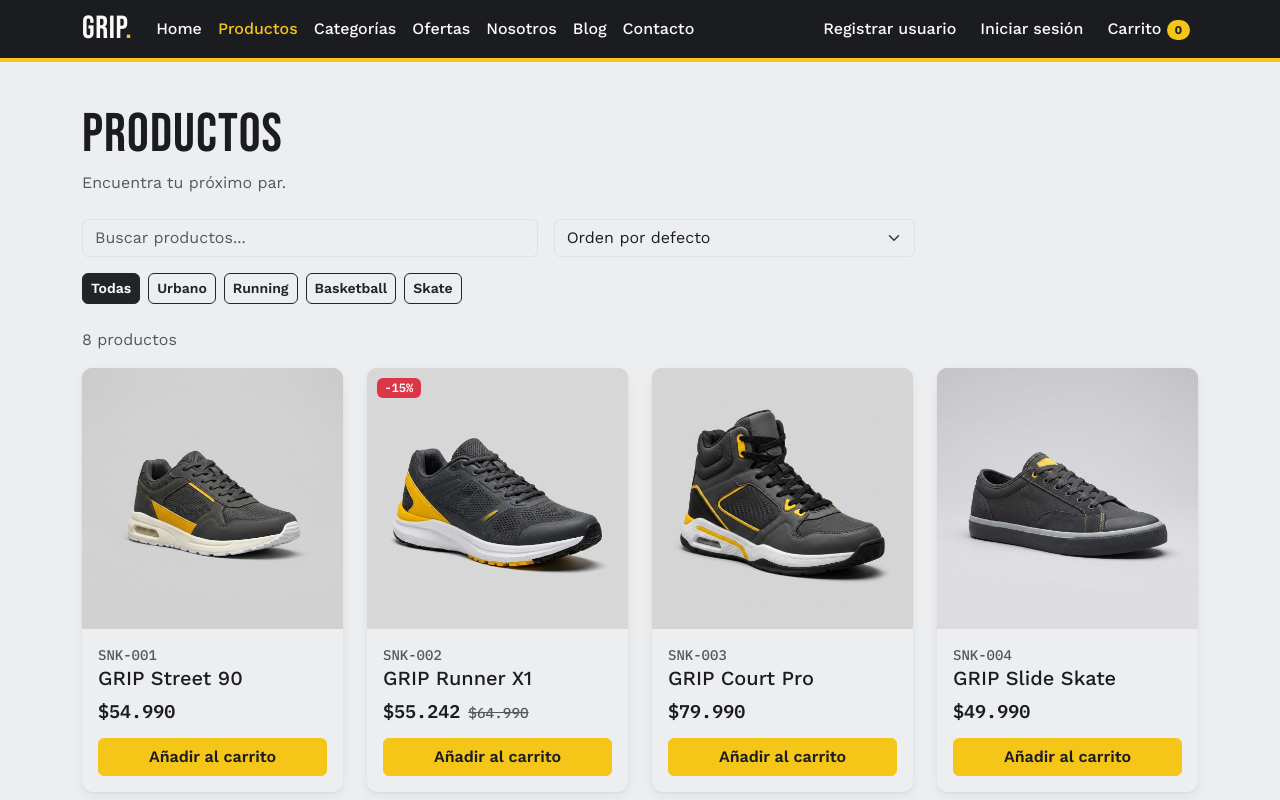
Test: App (integración) › actualiza el contador del encabezado y avisa al añadir un producto
Expected: the text with test id "contador-carrito" reads "0", x1=1174 y1=23 x2=1182 y2=37
Click the button "Añadir al carrito" below "$54.990".
click(212, 757)  # box x1=98 y1=738 x2=327 y2=776
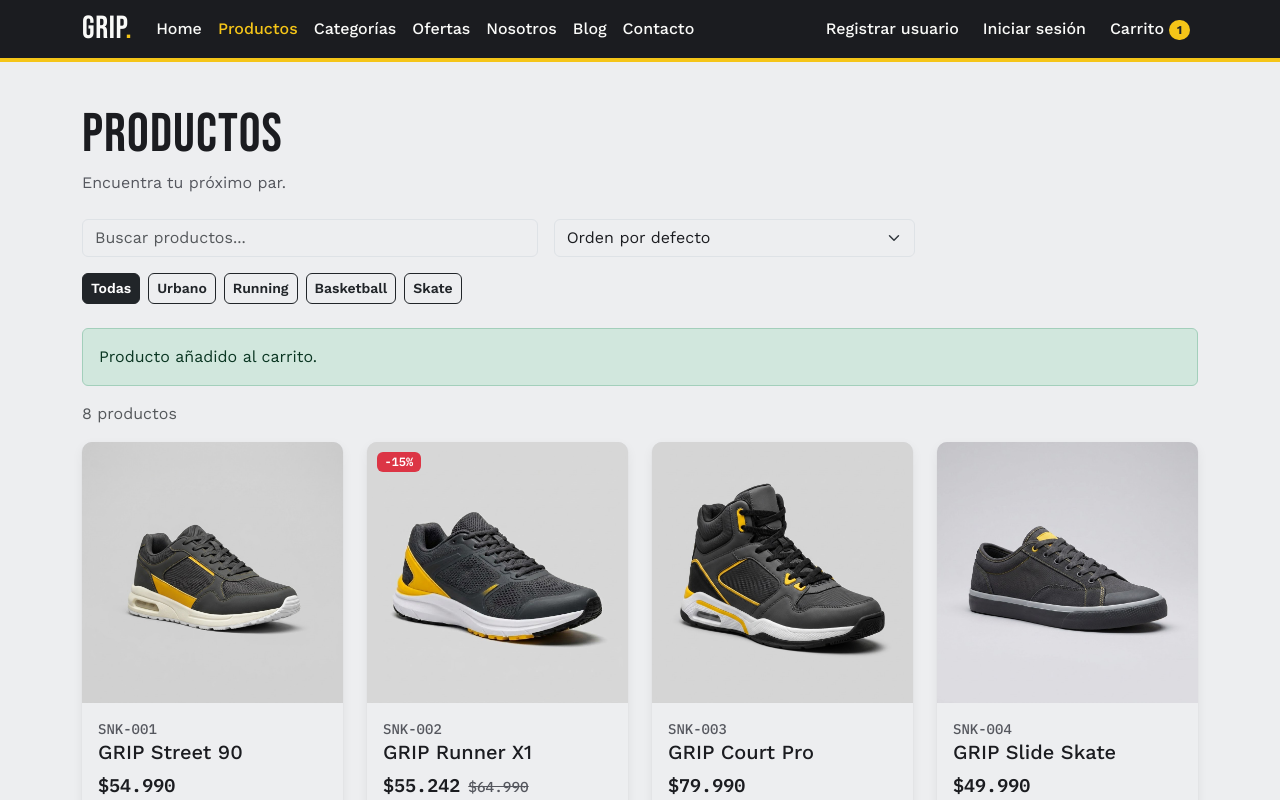
Result: the text with test id "contador-carrito" reads "1" at x1=1177 y1=23 x2=1182 y2=37
Result: the text "Producto añadido al carrito." is shown at x1=82 y1=328 x2=1198 y2=386
